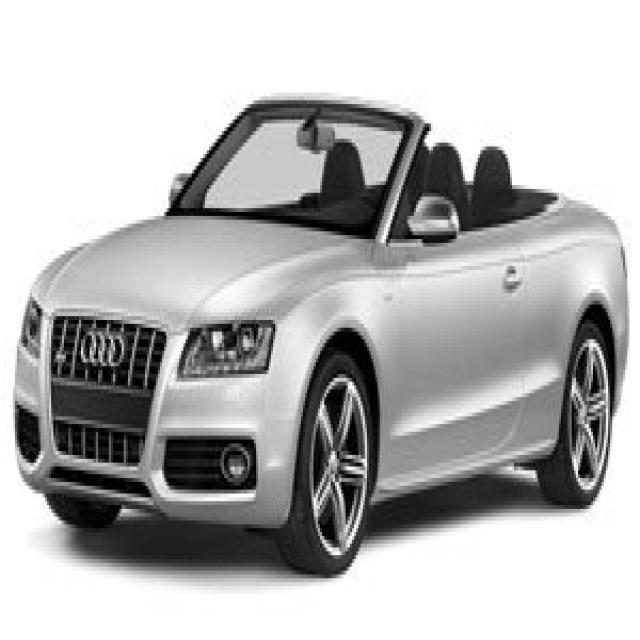car: (11, 88, 629, 574)
